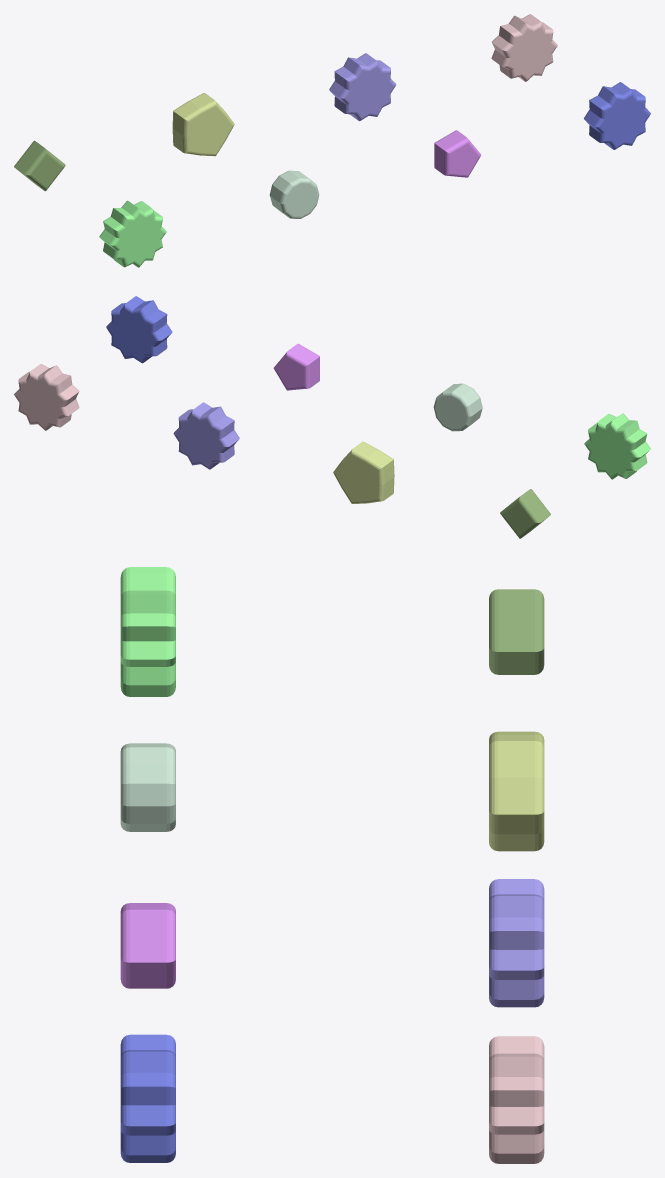
File: Lambert_Linear_2023-07-23-20-47-44.gltf
3 renders of one model, top to bottom at view 1: azimuth 30°, elevation 25°; view 2: azimuth 150°, elevation 25°; view 3: azimuth 270°, elevation 25°, orthographic. The views are drawn at different scales.
Size of the model in its own units: 671 by 70.83 by 230.
